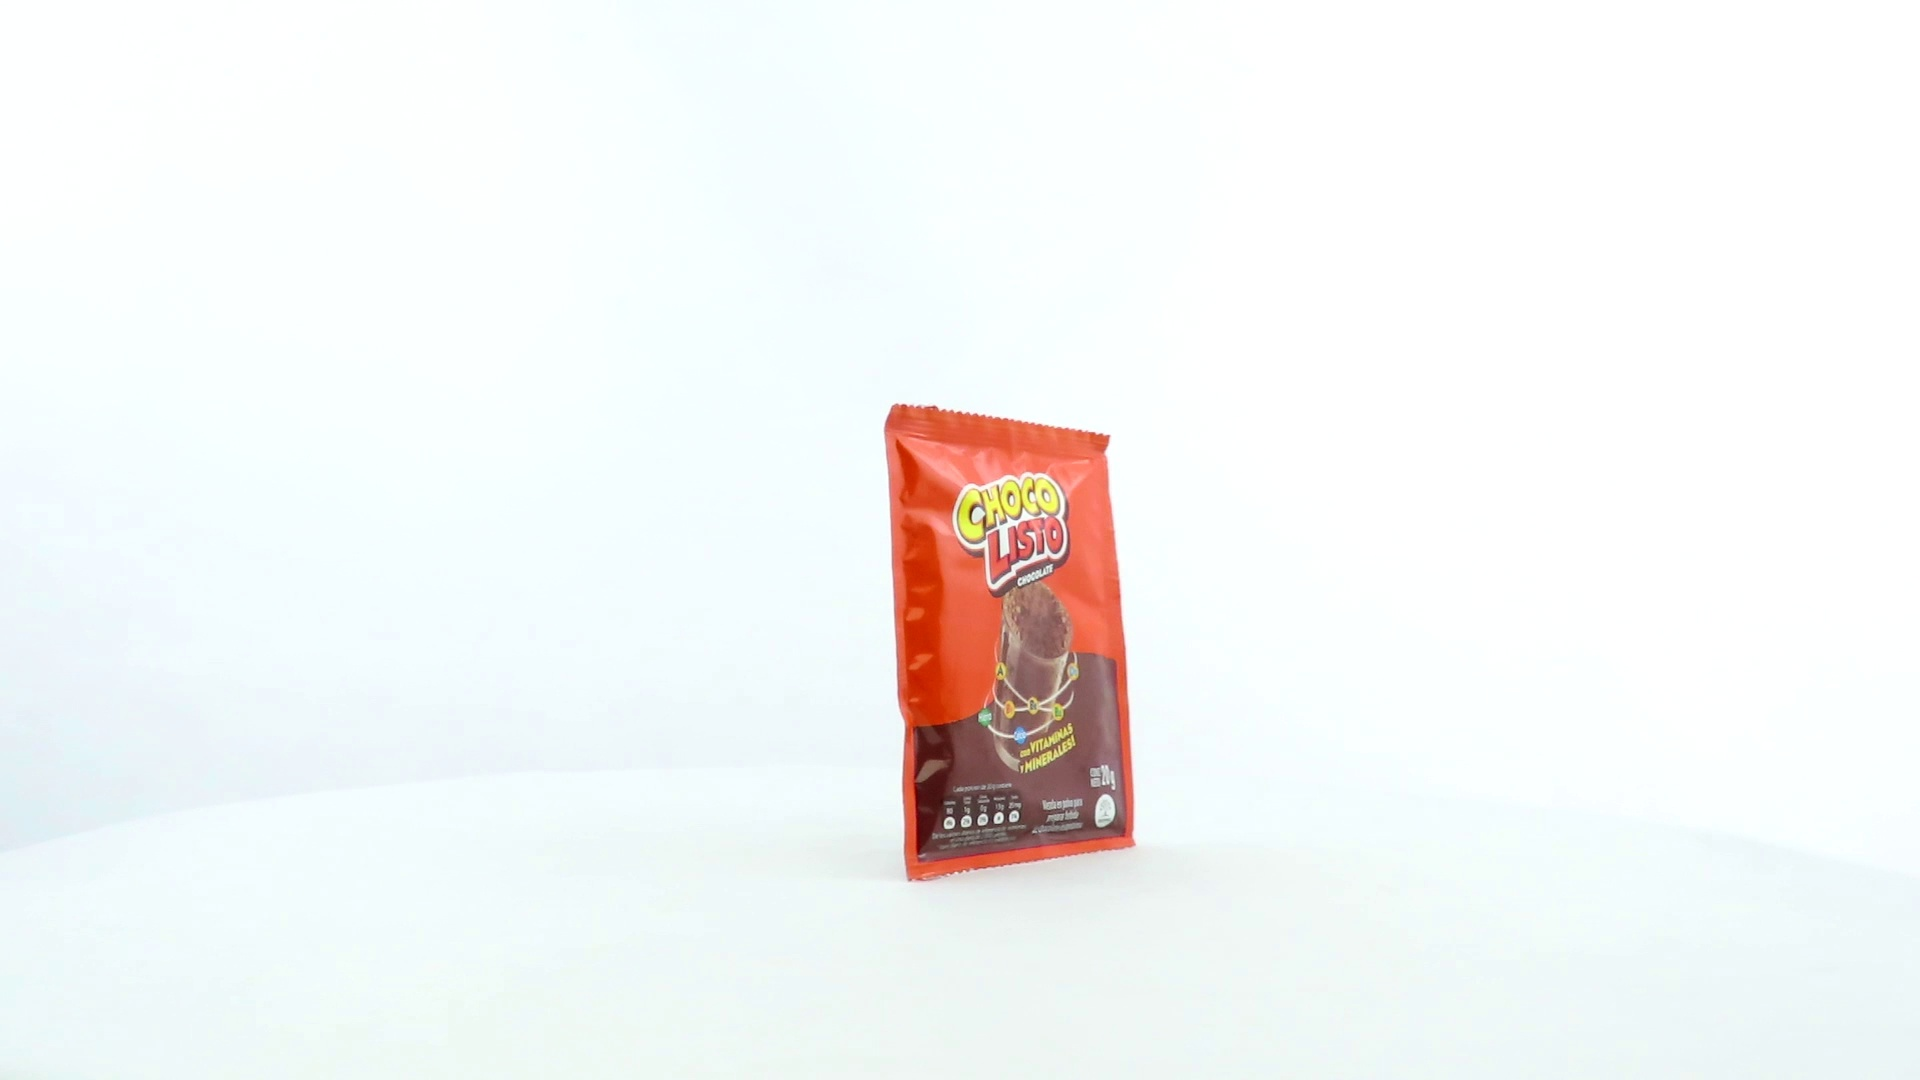COL0170103SOB02000: (880, 398, 1142, 887)
